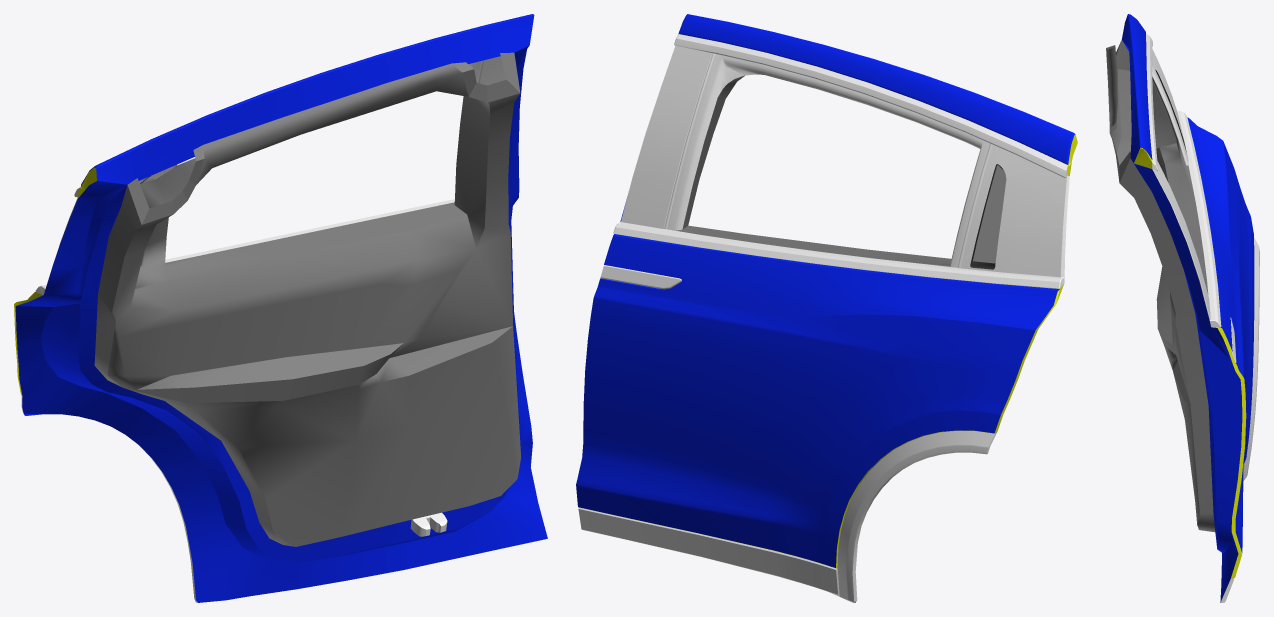
File: Door_LR.obj
3 views of the same model, side by side, from view 1: azimuth 30°, elevation 25°; view 2: azimuth 150°, elevation 25°; view 3: azimuth 270°, elevation 25° (orthographic). The views are drawn at different scales.
Parts seen in each view (by area): view 1: Door_LR; view 2: Door_LR; view 3: Door_LR.
Part boxes in pixels (x1,y1,x2,y2): Door_LR: [14, 14, 547, 602]; Door_LR: [576, 14, 1077, 602]; Door_LR: [1106, 14, 1259, 602].
Size of the model in its own units: 1.33 by 1.38 by 0.444.
